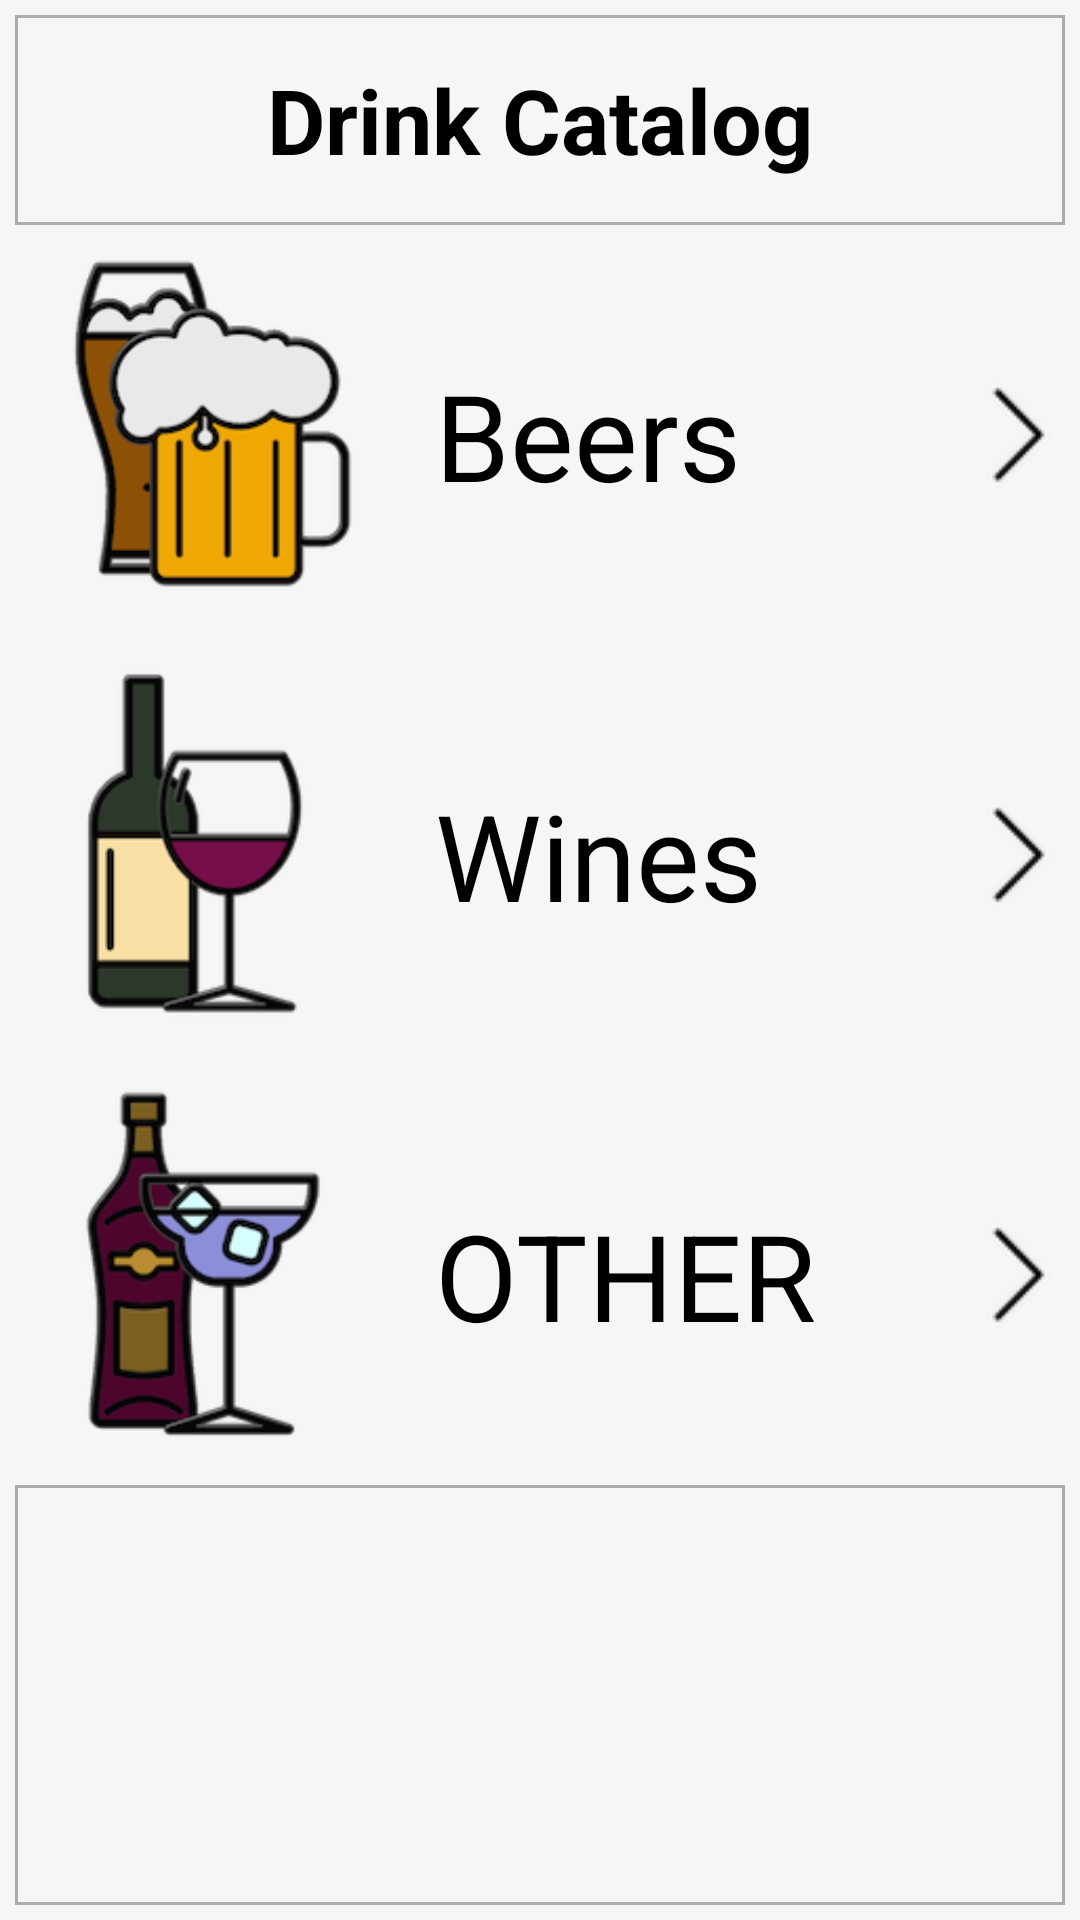

Icons on this 1080px x 1920px Android screen, each with the point to tap as (x=x, y=y):
arrow: (x=1018, y=435), (x=1018, y=855), (x=1018, y=1275)
beericon: (x=213, y=424)
cocktailicon: (x=203, y=1264)
wineicon: (x=195, y=843)
